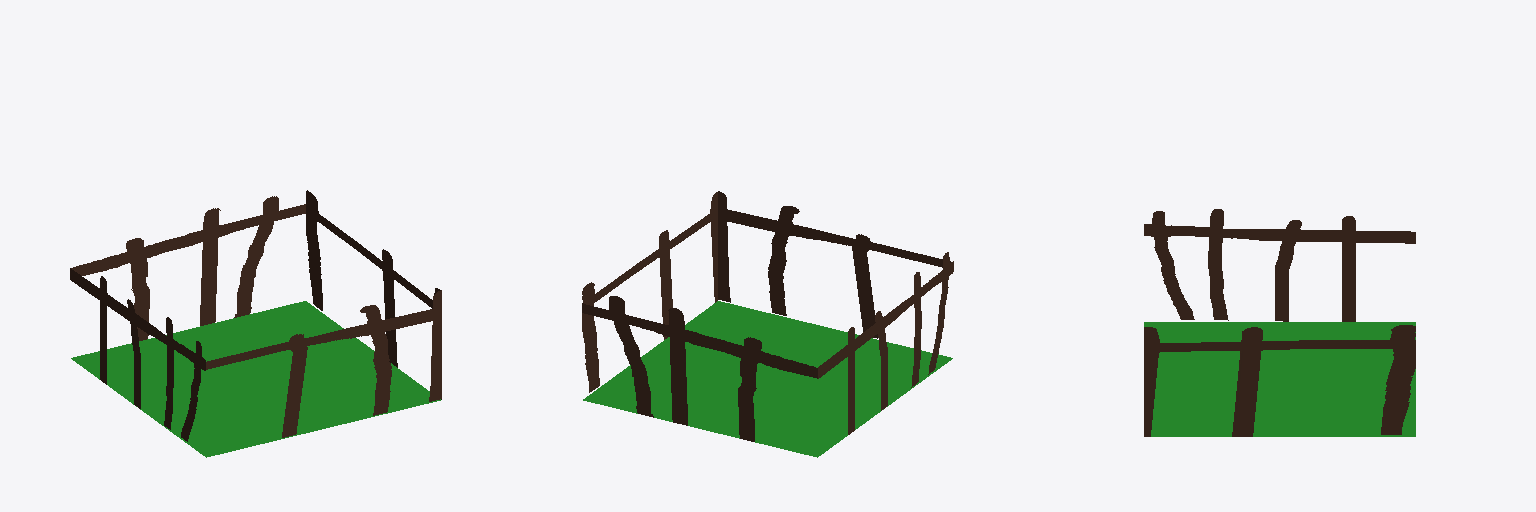
The picture shows the model from 3 angles: view 1: azimuth 30°, elevation 25°; view 2: azimuth 150°, elevation 25°; view 3: azimuth 270°, elevation 25°; orthographic projection.
Parts seen in each view (by area): view 1: fence_Cube; view 2: fence_Cube; view 3: fence_Cube.
Part boxes in pixels (left/top/right/bottom): fence_Cube: left=70, top=190, right=441, bottom=457; fence_Cube: left=582, top=191, right=953, bottom=457; fence_Cube: left=1144, top=209, right=1415, bottom=436.
Bounding box in the file's own units: 31.73 × 31.73 × 31.73.
1 materials, 1 textured.